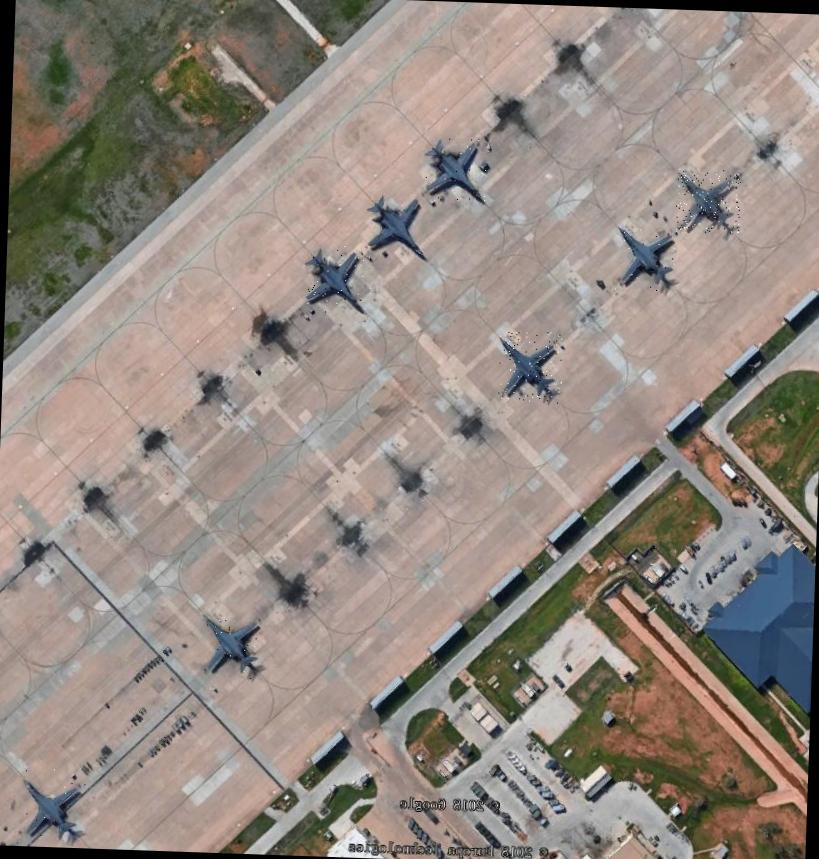A10: (17, 764, 85, 844), (497, 330, 562, 403), (423, 132, 488, 202), (202, 606, 262, 679), (674, 168, 740, 233), (612, 227, 677, 292), (365, 192, 425, 260), (306, 244, 363, 314)
